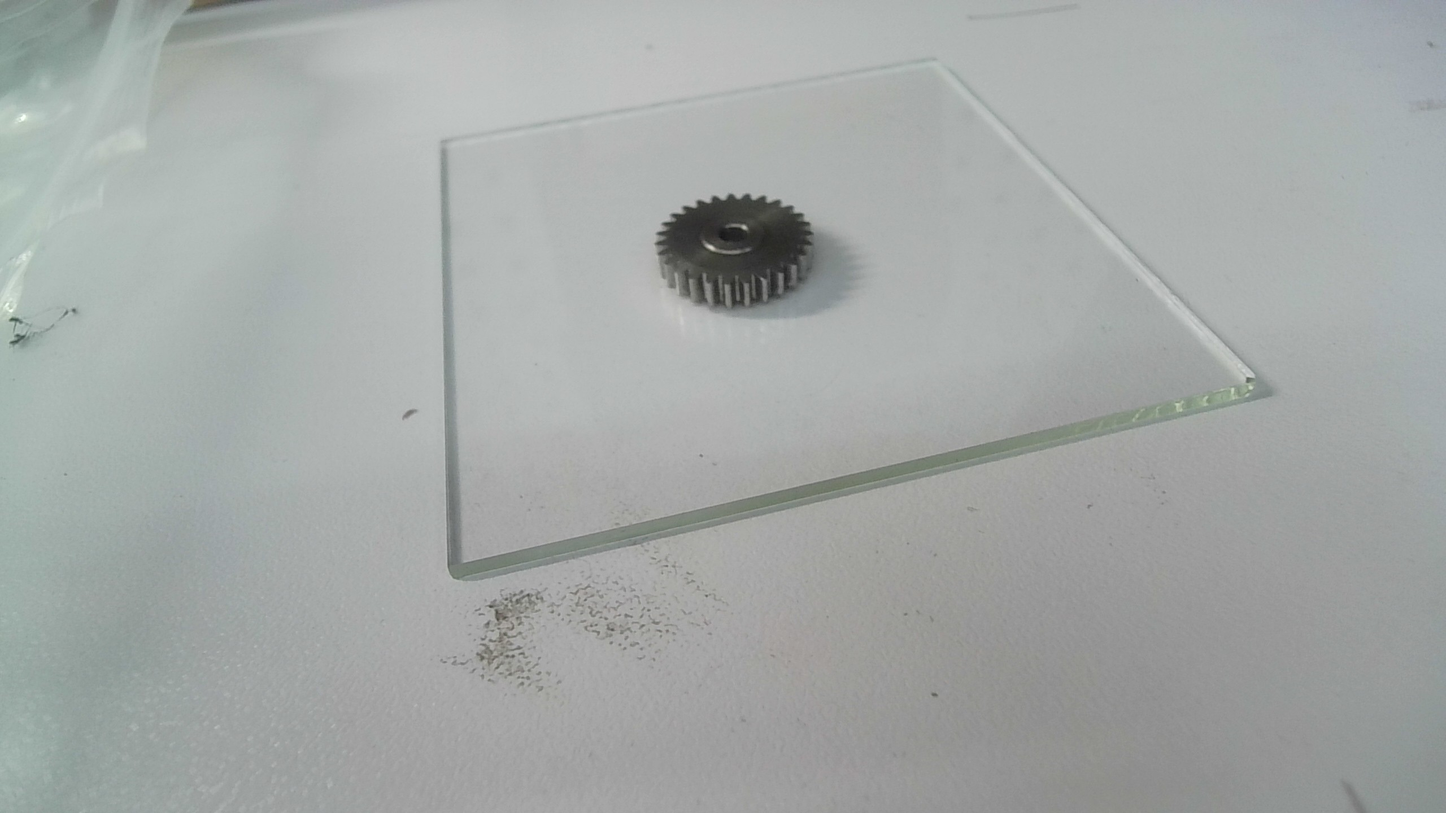gear: (651, 190, 817, 310)
